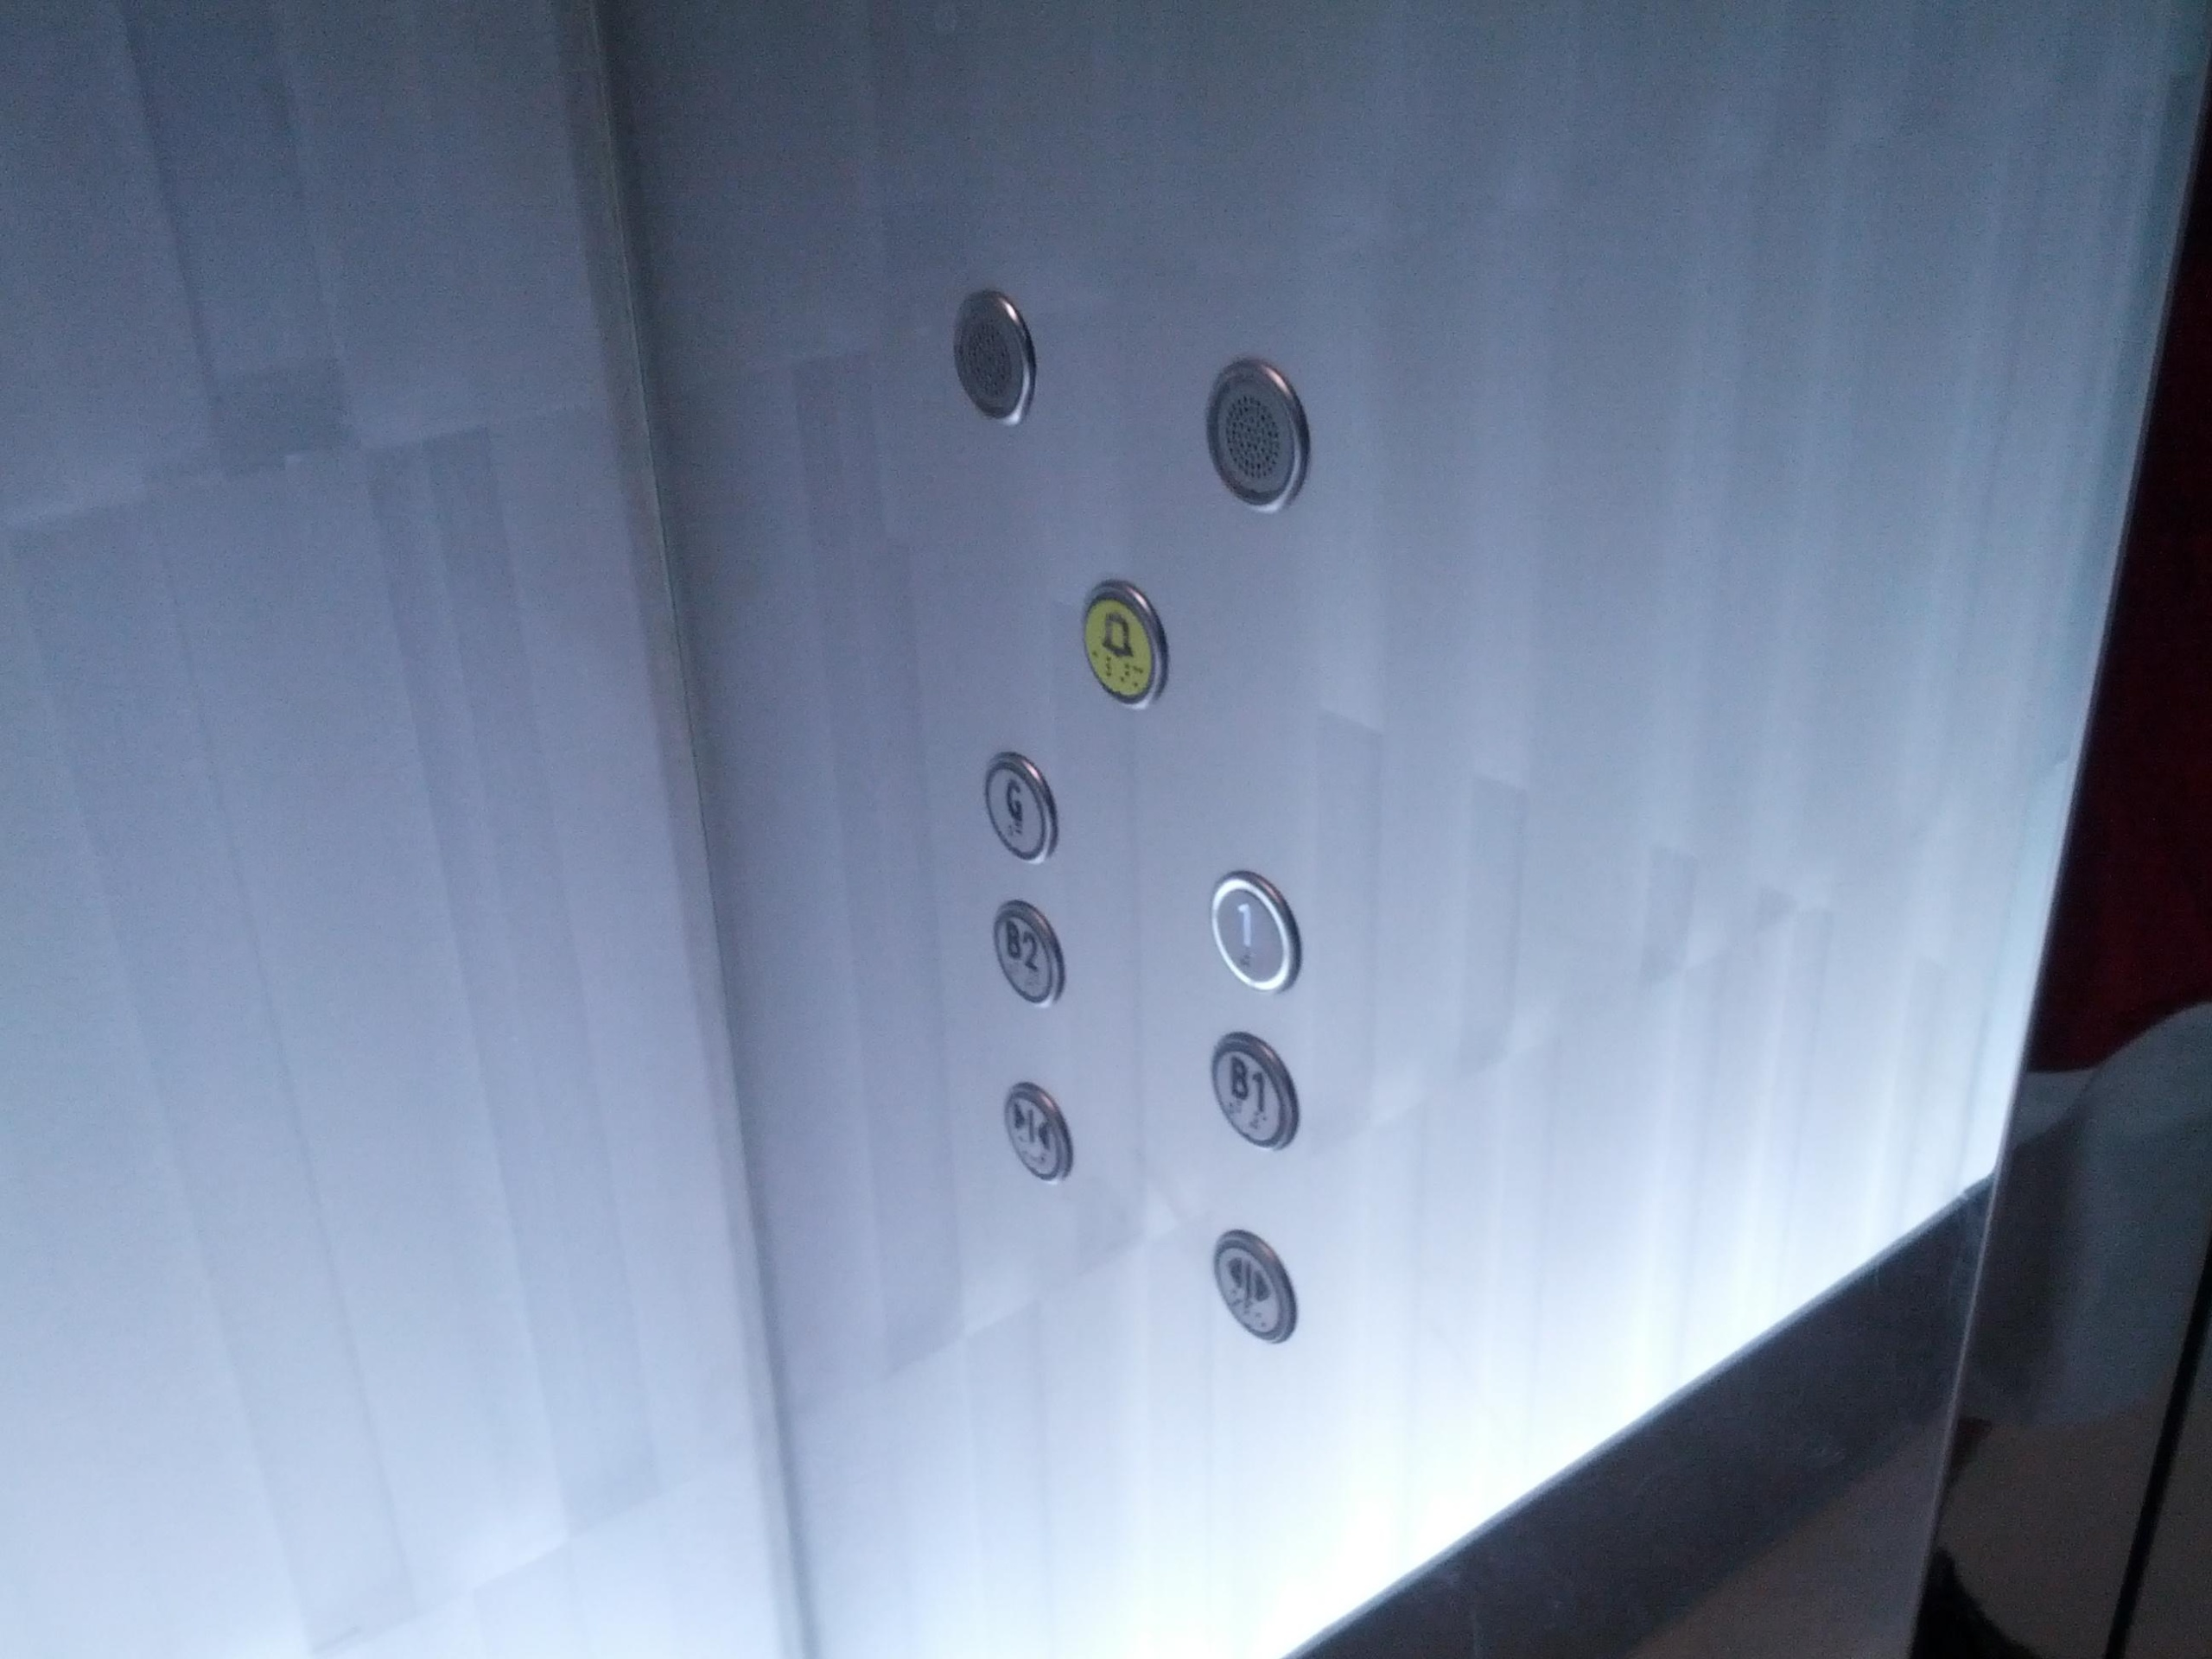1: (1205, 863, 1303, 999)
B1: (1209, 1028, 1303, 1152)
B2: (986, 890, 1069, 1009)
G: (977, 751, 1062, 870)
alarm: (1073, 579, 1172, 718)
close: (1000, 1079, 1075, 1190)
open: (1209, 1222, 1303, 1347)
speaker: (1195, 352, 1317, 525), (934, 277, 1055, 448)
